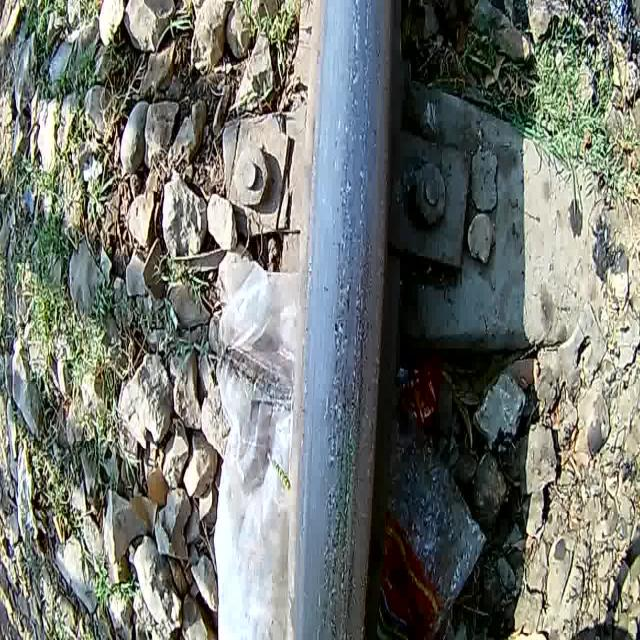Flakings: (314, 0, 383, 640)
